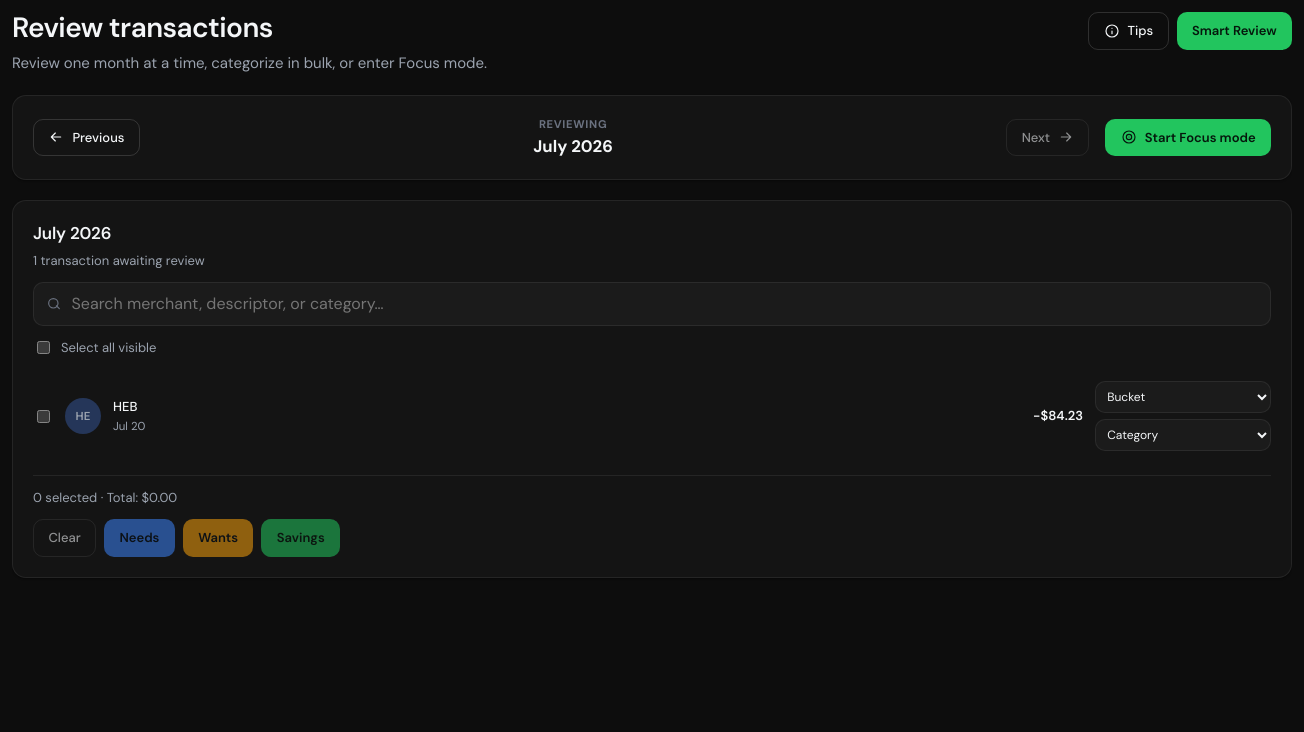
Test: TransactionReviewView › keeps an emptied month visible so the user can navigate to another month
Select "Savings" in the dropdown with class "bucket": {"x": 1183, "y": 397} [1095,381,1271,413]
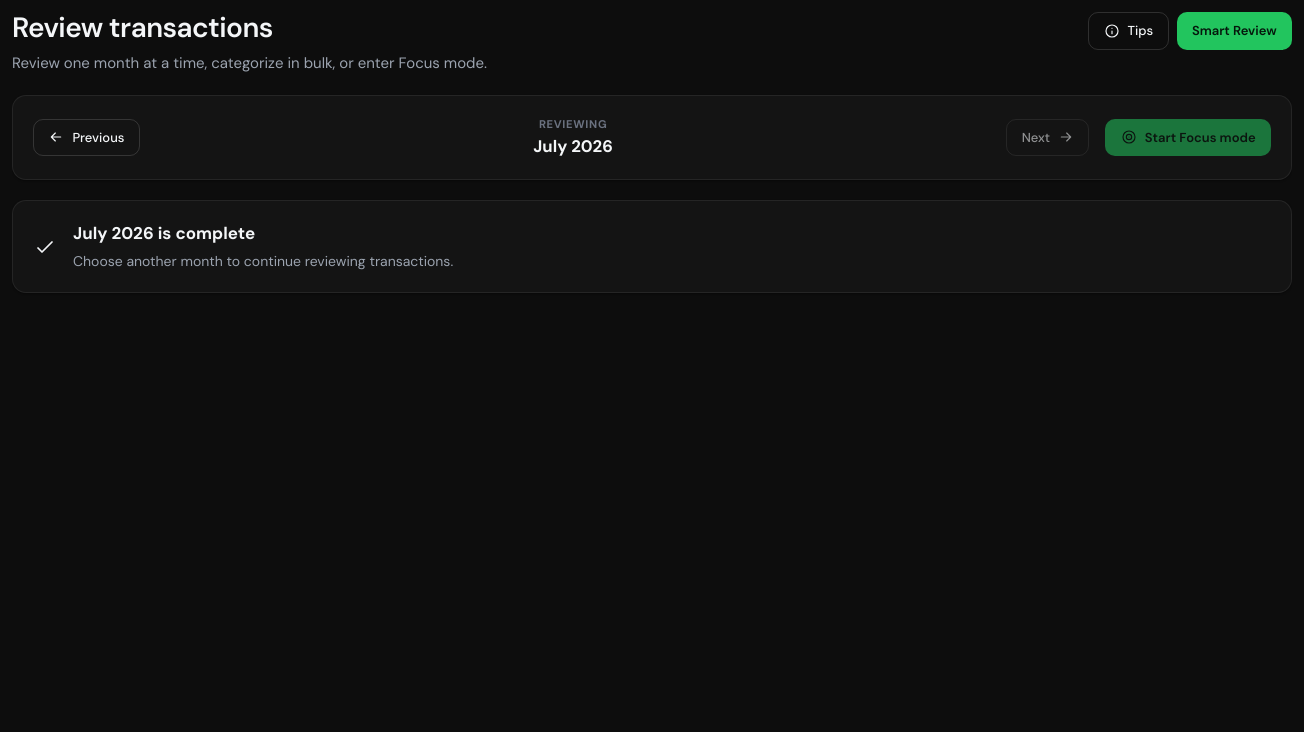
Expected: the text "July 2026 is complete" is shown, [73,222,255,244]
Click the button "Previous": {"x": 86, "y": 137} [33,119,140,156]
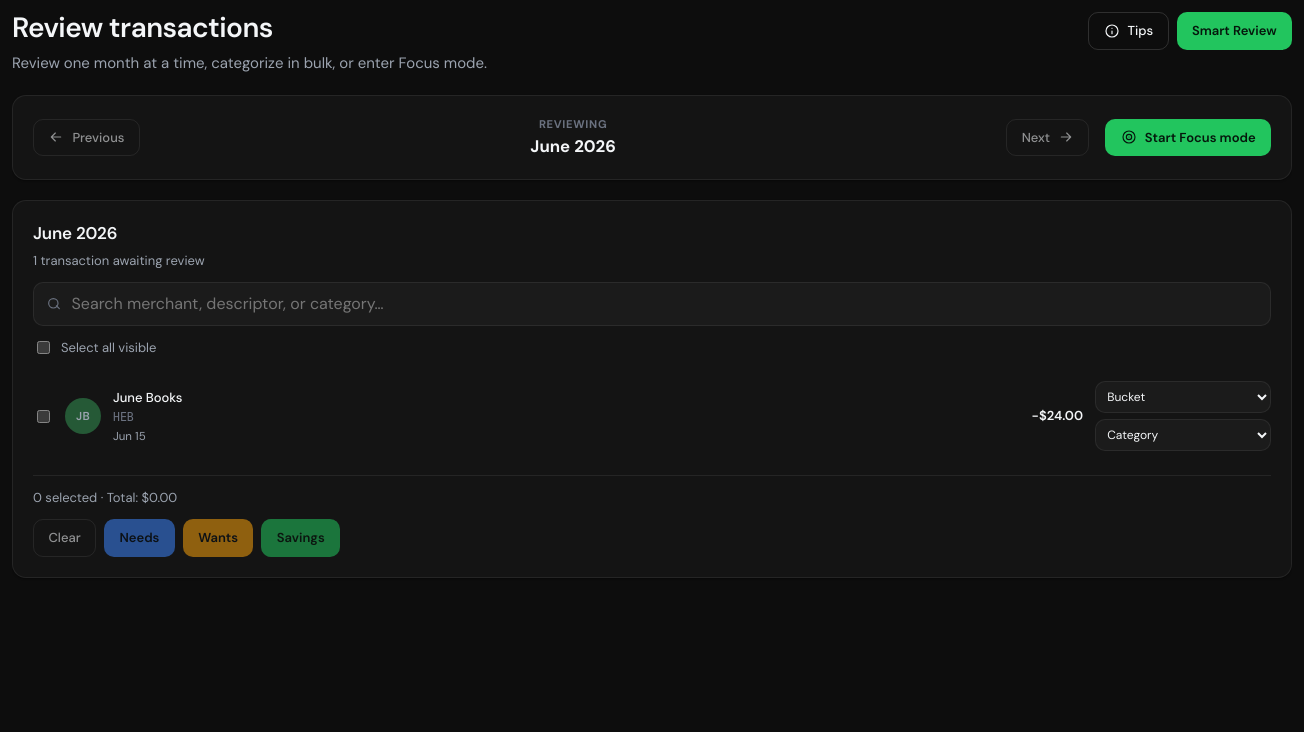
Expected: the text "June Books" is shown, [113,388,182,407]
